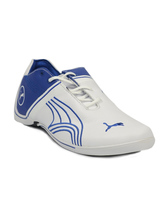shoes: (17, 57, 158, 159)
